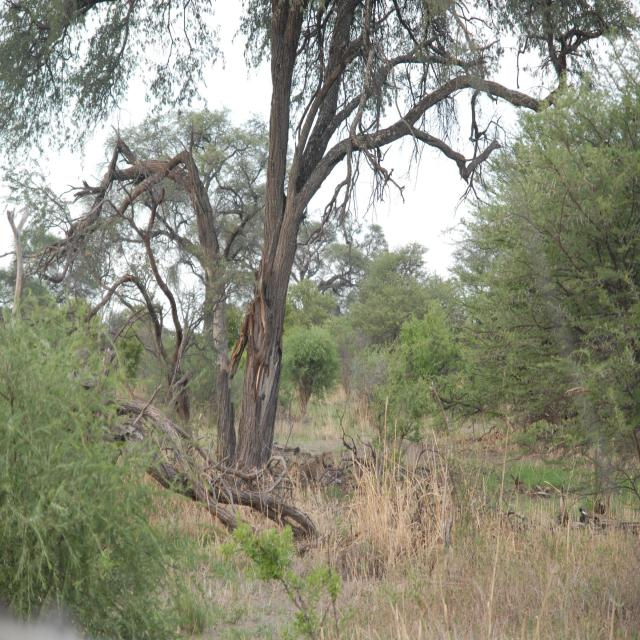Leopard: (294, 444, 344, 484)
